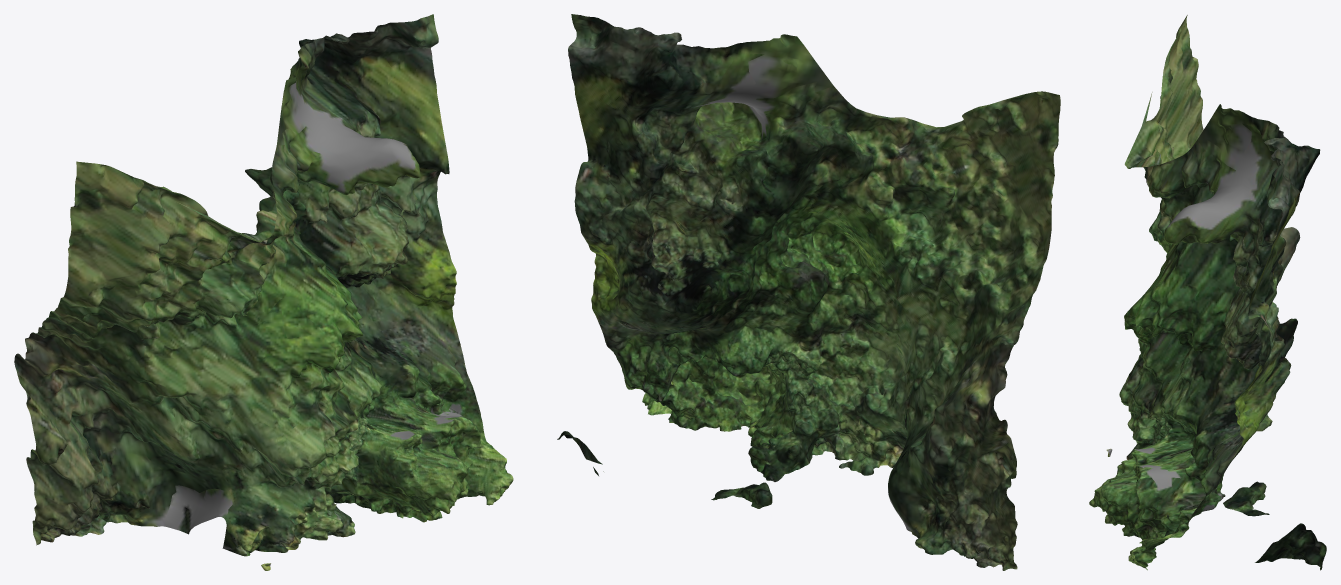
File: Tile_+005_+030.fbx
The picture shows the model from 3 angles, left to right: view 1: azimuth 30°, elevation 25°; view 2: azimuth 150°, elevation 25°; view 3: azimuth 270°, elevation 25°; orthographic projection. The views are drawn at different scales.
Parts seen in each view (by area): view 1: DefaultName; view 2: DefaultName; view 3: DefaultName.
Boxes of the visible parts, left/top/right/bottom form: DefaultName: left=14, top=14, right=513, bottom=570; DefaultName: left=557, top=14, right=1060, bottom=570; DefaultName: left=1089, top=15, right=1326, bottom=570.
Size of the model in its own units: 22.54 by 22.54 by 12.53.
